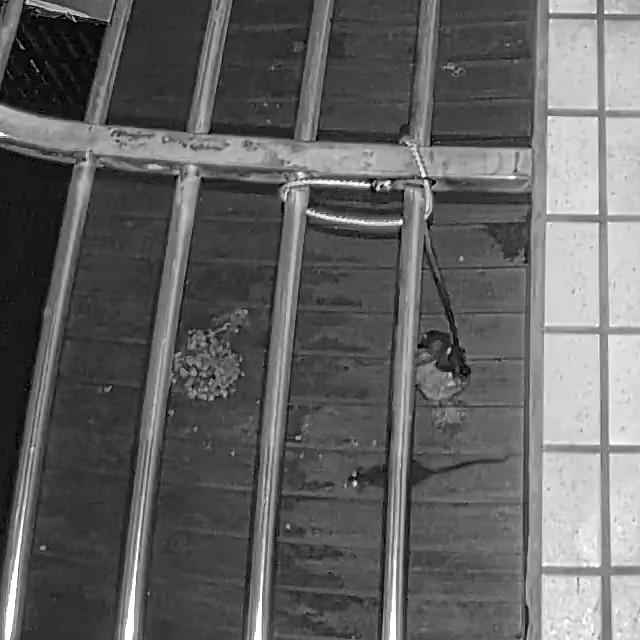rat: (342, 452, 510, 496)
